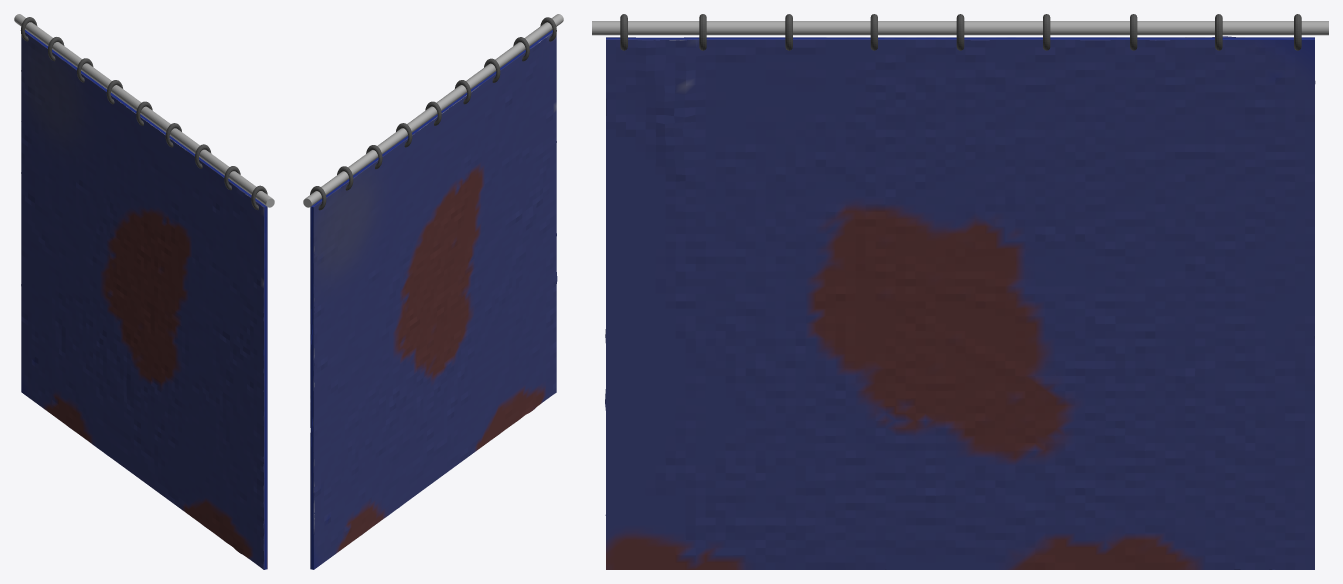
The model's file is Cortinas distintas.fbx.
3 views of the same model, side by side, from view 1: azimuth 30°, elevation 25°; view 2: azimuth 150°, elevation 25°; view 3: azimuth 270°, elevation 25° (orthographic). The views are drawn at different scales.
Parts seen in each view (by area): view 1: Cubo.015, Cilindro.001; view 2: Cubo.015, Cilindro.001; view 3: Cubo.015, Cilindro.001.
Part boxes in pixels (<box>): Cubo.015: <box>21,29,267,569</box>; Cilindro.001: <box>14,14,274,207</box>; Cubo.015: <box>310,30,557,569</box>; Cilindro.001: <box>303,14,563,207</box>; Cubo.015: <box>605,36,1315,569</box>; Cilindro.001: <box>592,21,1328,35</box>.
Bounding box in the file's own units: 6.17 × 142 × 171.
